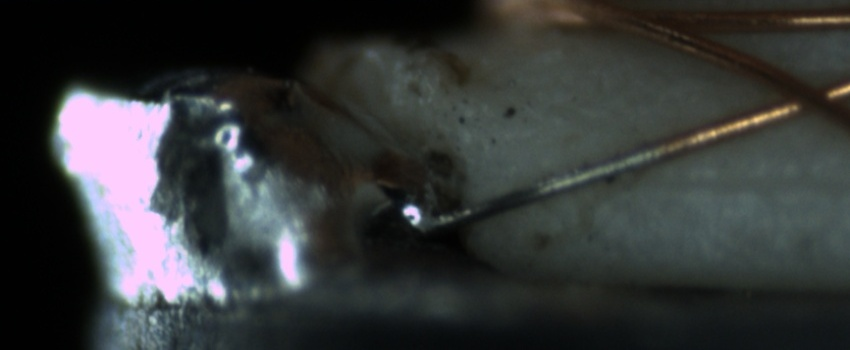CL: (751, 63, 846, 129)
DL: (620, 152, 850, 216)
TS: (418, 147, 658, 234)
